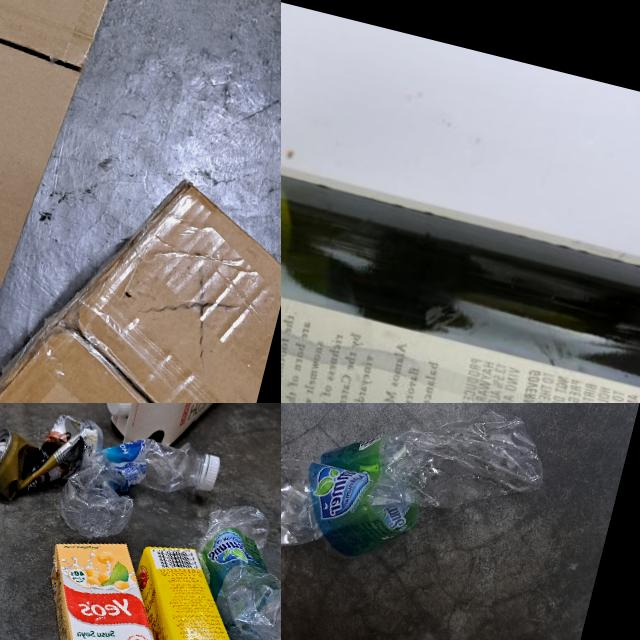caixinha: (12, 528, 201, 640), (97, 536, 281, 640), (97, 403, 262, 460)
garrafa de vidro: (281, 110, 640, 403)
garrafa plástica: (281, 403, 556, 630), (54, 419, 221, 558), (170, 495, 281, 640)
lata: (0, 403, 105, 517)
papelão: (0, 141, 281, 403), (0, 0, 174, 365)
tampa plástica: (193, 450, 220, 494), (101, 403, 135, 417)
